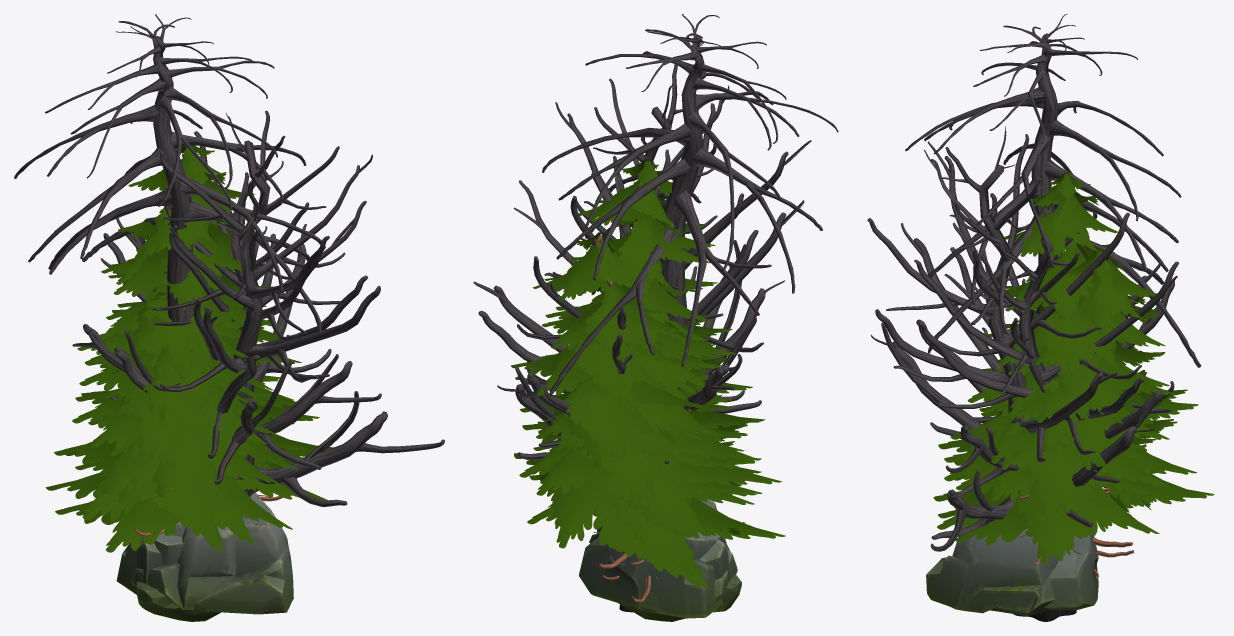
Rendered from nature.glb.
3 views of the same model, side by side, from view 1: azimuth 30°, elevation 25°; view 2: azimuth 150°, elevation 25°; view 3: azimuth 270°, elevation 25° (orthographic). The views are drawn at different scales.
Visible parts, largest first — view 1: Pine_4, DeadTree_2, DeadTree_3, DeadTree_1, Pine_2, Pine_5, Rock_Medium_3, Pine_1, Rock_Medium_1, Rock_Medium_2, Pine_3; view 2: Pine_5, Pine_4, DeadTree_3, DeadTree_2, DeadTree_1, Rock_Medium_2, Pine_2, Pine_1, Rock_Medium_3, Rock_Medium_1, Pine_3; view 3: Pine_5, DeadTree_2, Pine_4, DeadTree_3, DeadTree_1, Rock_Medium_3, Pine_2, Rock_Medium_2, Pine_1, Rock_Medium_1, Pine_3.
Boxes of the visible parts, bbox=[...] form: Pine_4: bbox=[54, 145, 312, 535]; DeadTree_2: bbox=[114, 110, 444, 506]; DeadTree_3: bbox=[14, 14, 322, 351]; DeadTree_1: bbox=[72, 153, 381, 469]; Pine_2: bbox=[55, 288, 306, 552]; Pine_5: bbox=[45, 222, 333, 544]; Rock_Medium_3: bbox=[136, 492, 293, 621]; Pine_1: bbox=[75, 287, 279, 514]; Rock_Medium_1: bbox=[130, 525, 236, 609]; Rock_Medium_2: bbox=[116, 532, 183, 594]; Pine_3: bbox=[88, 292, 279, 454]; Pine_5: bbox=[511, 232, 768, 576]; Pine_4: bbox=[519, 159, 781, 602]; DeadTree_3: bbox=[542, 14, 838, 612]; DeadTree_2: bbox=[473, 64, 811, 459]; DeadTree_1: bbox=[478, 149, 758, 612]; Rock_Medium_2: bbox=[578, 531, 722, 618]; Pine_2: bbox=[527, 339, 785, 589]; Pine_1: bbox=[540, 319, 762, 568]; Rock_Medium_3: bbox=[589, 525, 741, 612]; Rock_Medium_1: bbox=[597, 499, 737, 621]; Pine_3: bbox=[553, 318, 744, 580]; Pine_5: bbox=[938, 249, 1214, 563]; DeadTree_2: bbox=[867, 126, 1161, 551]; Pine_4: bbox=[938, 172, 1177, 564]; DeadTree_3: bbox=[905, 14, 1201, 621]; DeadTree_1: bbox=[914, 193, 1178, 496]; Rock_Medium_3: bbox=[926, 525, 1058, 613]; Pine_2: bbox=[933, 311, 1159, 560]; Rock_Medium_2: bbox=[1044, 534, 1098, 610]; Pine_1: bbox=[954, 307, 1156, 547]; Rock_Medium_1: bbox=[990, 549, 1066, 616]; Pine_3: bbox=[970, 360, 1143, 578].
Size of the model in its own units: 8.24 by 13.28 by 7.63.
6 materials, 6 textured.
